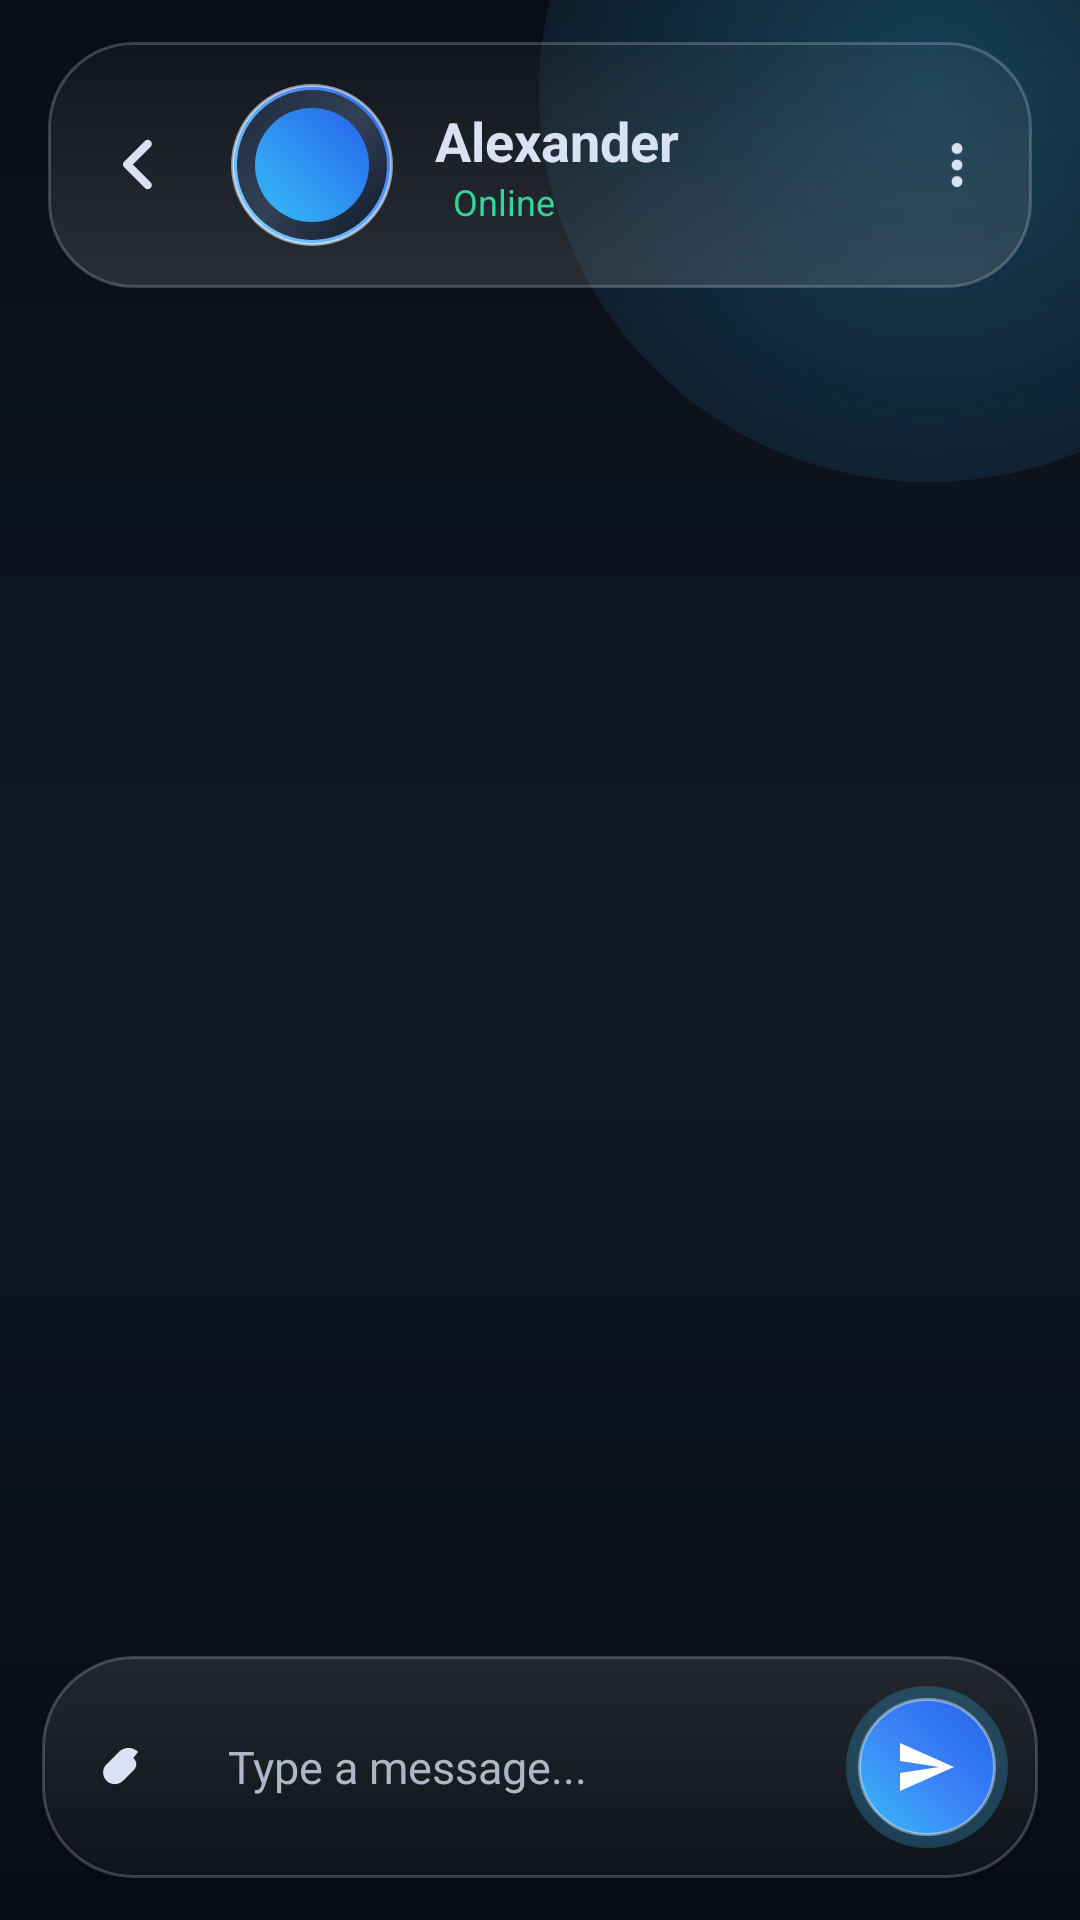

Icon click points for this 1080px x 1920px phone screenshot, format (x,y):
back: (137,164)
more: (957,165)
send: (927,1767)
